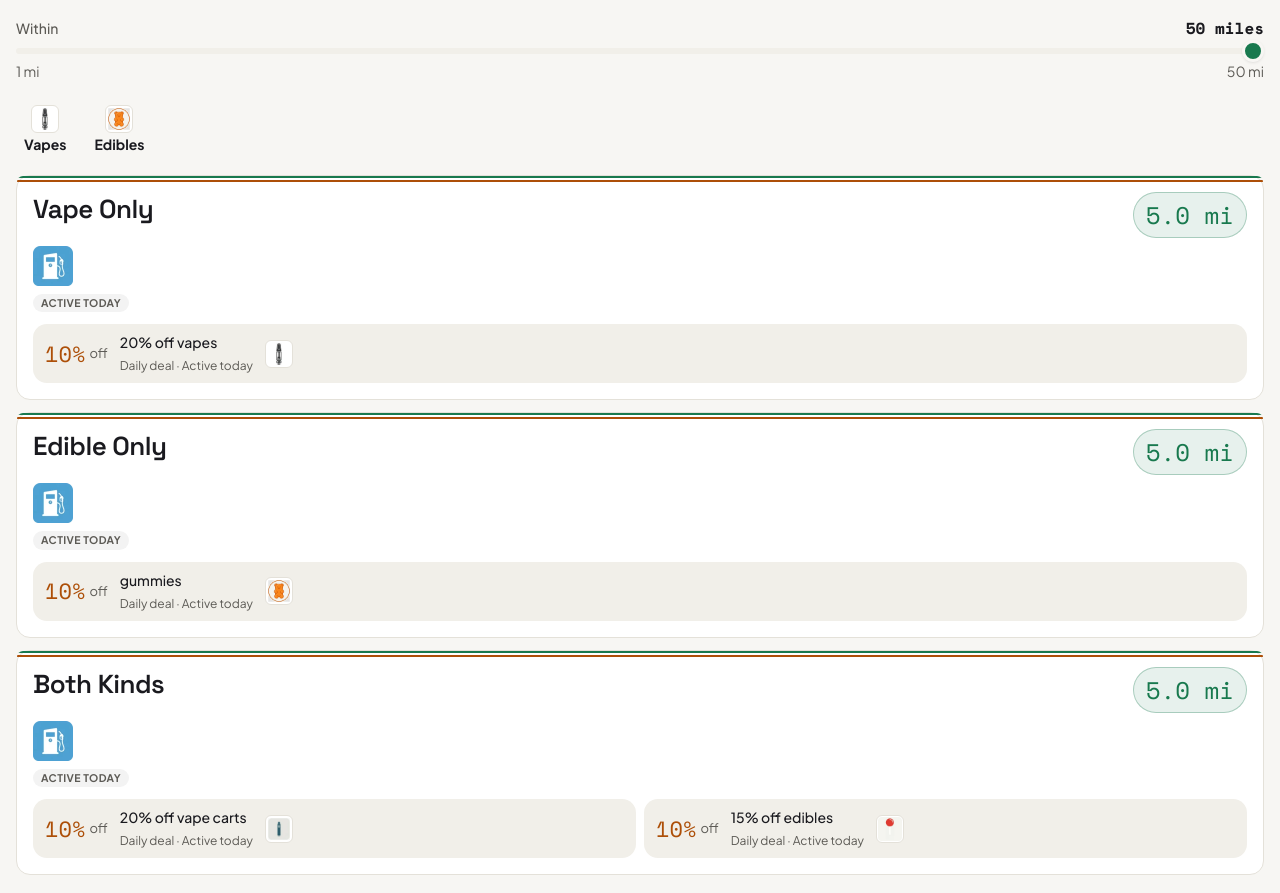
Test case: DealFeed › category icon filter bar › restores the full feed when the pressed icon is clicked again
This screenshot has width=1280, height=893.
What coordinates should you click on to do the following:
click the button "Vapes"
I would click on:
 (45, 128)
Its box is left=16, top=101, right=74, bottom=155.
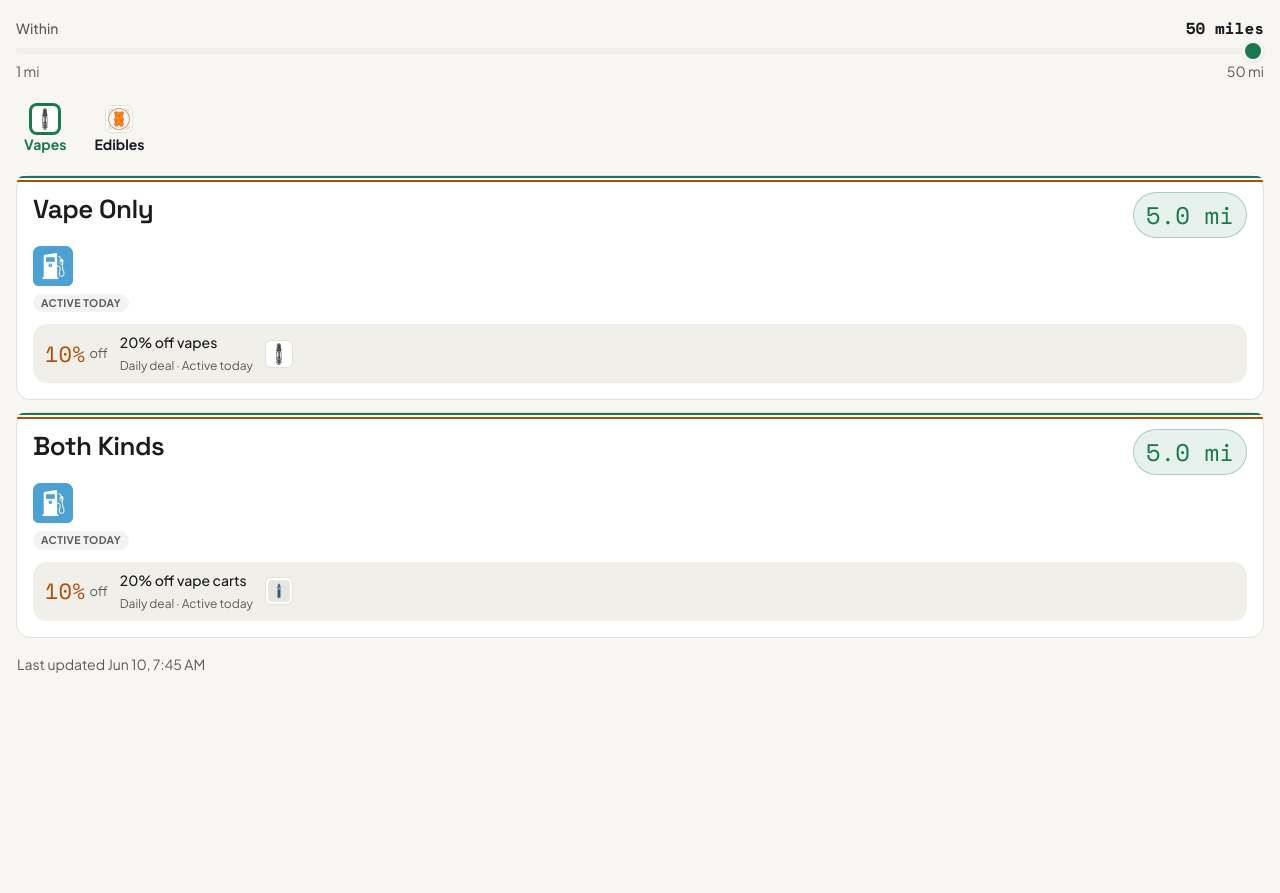
Expected: the number of list items is 2, left=16, top=175, right=1264, bottom=400; left=16, top=412, right=1264, bottom=638
What coordinates should you click on to do the following:
click the button "Vapes"
I would click on:
 (45, 128)
Its box is left=16, top=101, right=74, bottom=155.
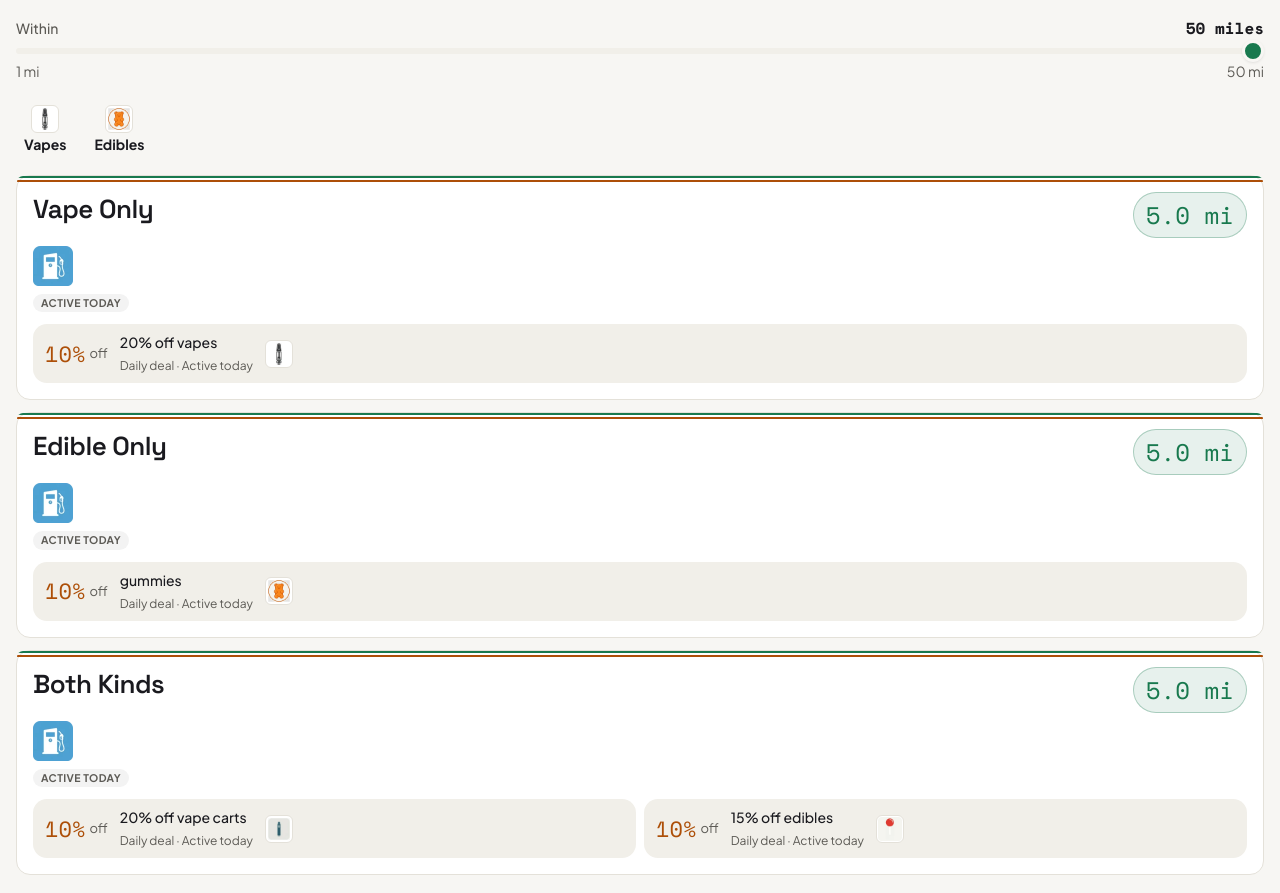
Expected: the number of list items is 3, left=16, top=175, right=1264, bottom=400; left=16, top=412, right=1264, bottom=638; left=16, top=650, right=1264, bottom=875
